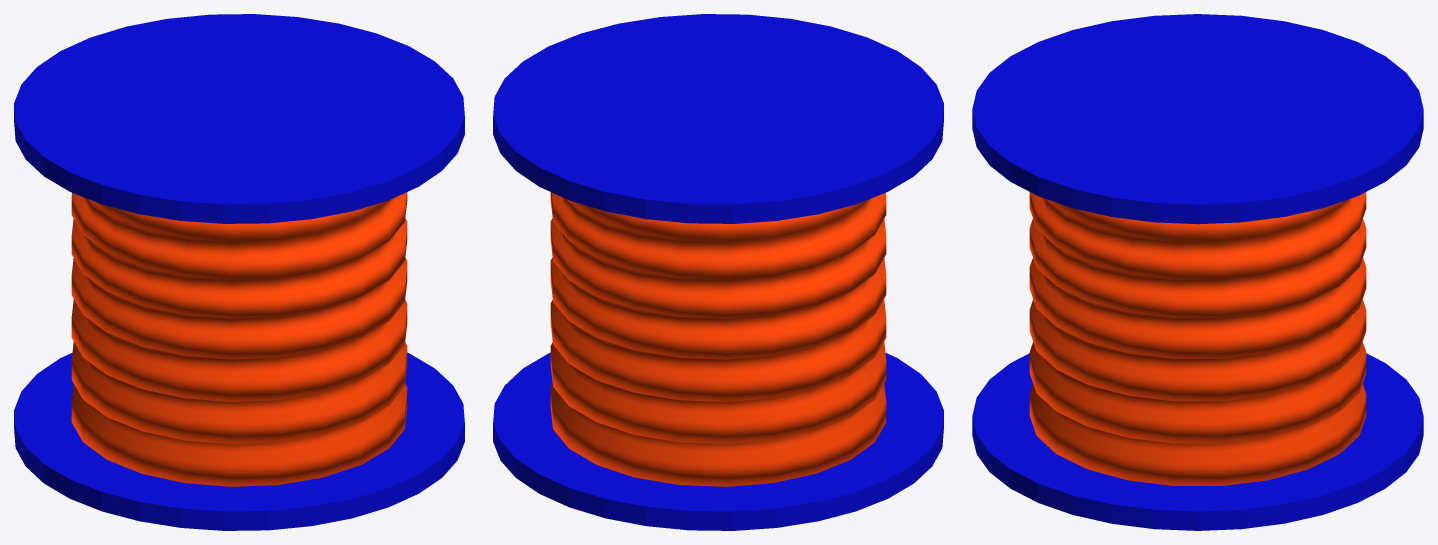
Rendered from cable.fbx.
The picture shows the model from 3 angles, left to right: view 1: azimuth 30°, elevation 25°; view 2: azimuth 150°, elevation 25°; view 3: azimuth 270°, elevation 25°; orthographic projection.
Visible parts, largest first — view 1: Cylinder, Circle, Circle.001; view 2: Cylinder, Circle, Circle.001; view 3: Cylinder, Circle, Circle.001.
Part boxes in pixels (x1,y1,x2,y2): Cylinder: [71, 192, 407, 486]; Circle: [14, 14, 464, 223]; Circle.001: [14, 352, 464, 530]; Cylinder: [550, 192, 886, 486]; Circle: [493, 14, 943, 223]; Circle.001: [493, 352, 943, 530]; Cylinder: [1029, 192, 1366, 485]; Circle: [972, 14, 1423, 224]; Circle.001: [972, 353, 1423, 530].
Bounding box in the file's own units: 49.93 × 39.83 × 49.93.
